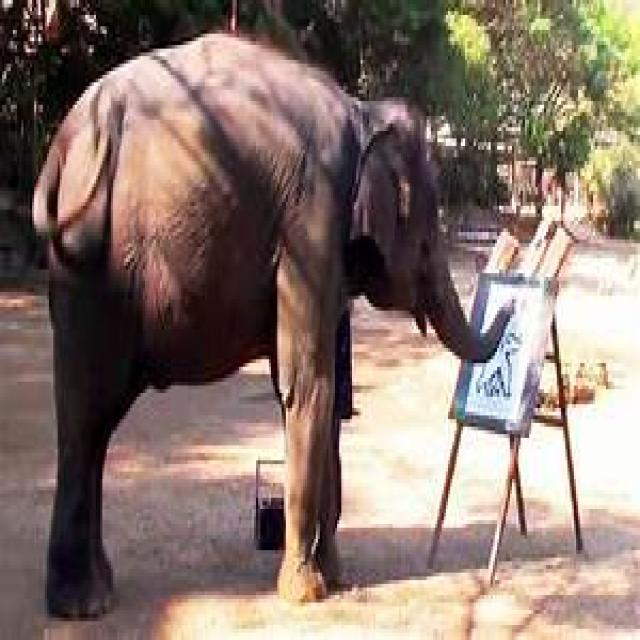elephant: (30, 30, 491, 625)
